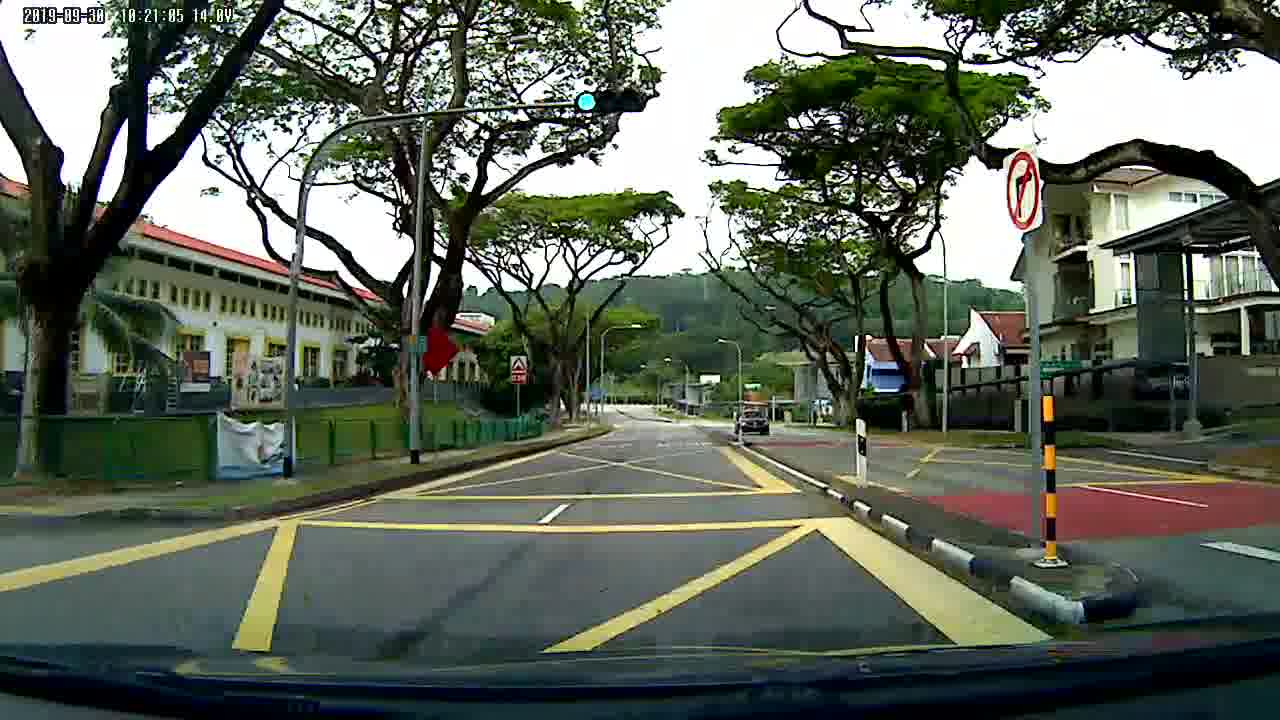car: (730, 407, 773, 440)
